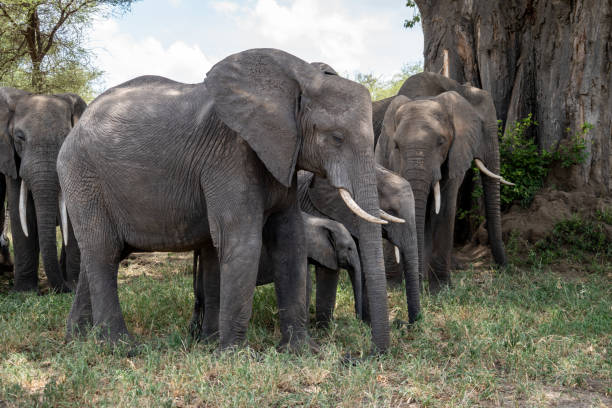elephant: (64, 46, 524, 357), (2, 77, 82, 331)
